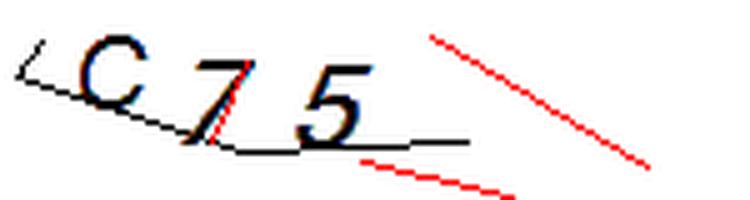5: (287, 58, 387, 155)
7: (170, 51, 270, 151)
C: (69, 27, 154, 117)
